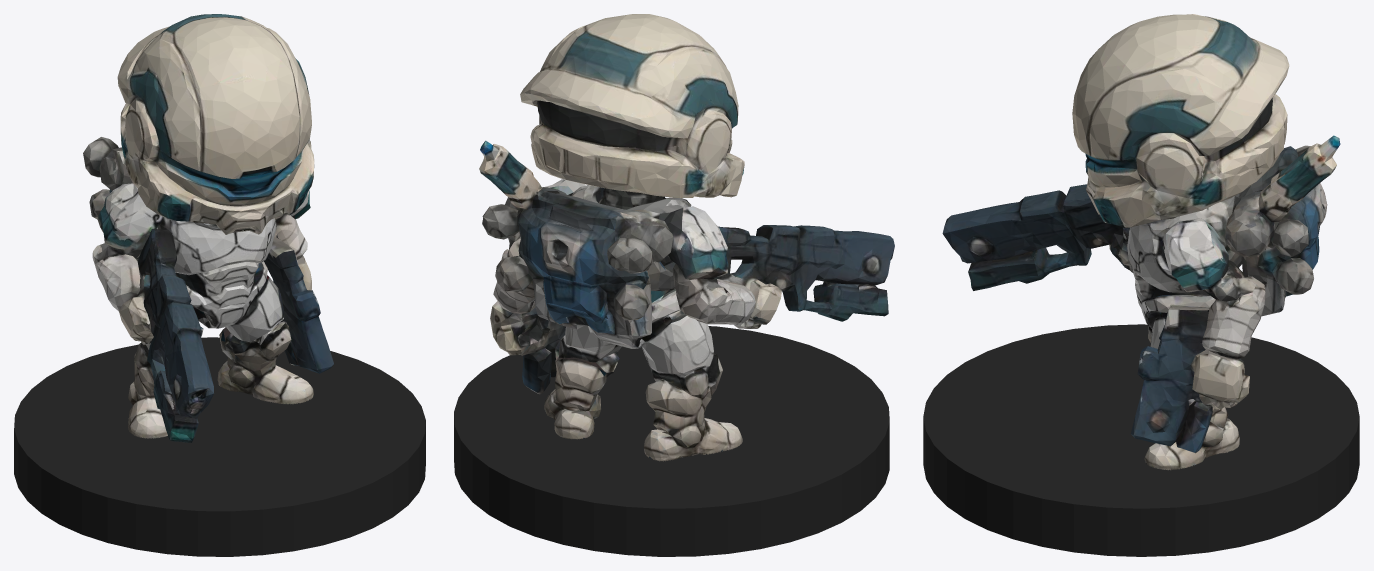
File: fire-warrior-carbine.glb
3 renders of one model, left to right at view 1: azimuth 30°, elevation 25°; view 2: azimuth 150°, elevation 25°; view 3: azimuth 270°, elevation 25°, orthographic. The views are drawn at different scales.
Parts seen in each view (by area): view 1: figure, base; view 2: figure, base; view 3: figure, base.
Part boxes in pixels (x1,y1,x2,y2): figure: (83, 14, 333, 442); base: (14, 337, 425, 556); figure: (479, 14, 894, 461); base: (454, 326, 889, 556); figure: (942, 14, 1340, 470); base: (923, 324, 1359, 556).
Size of the model in its own units: 0.9843 by 1.12 by 0.9843.
Materials: 2 (1 with a texture image).
